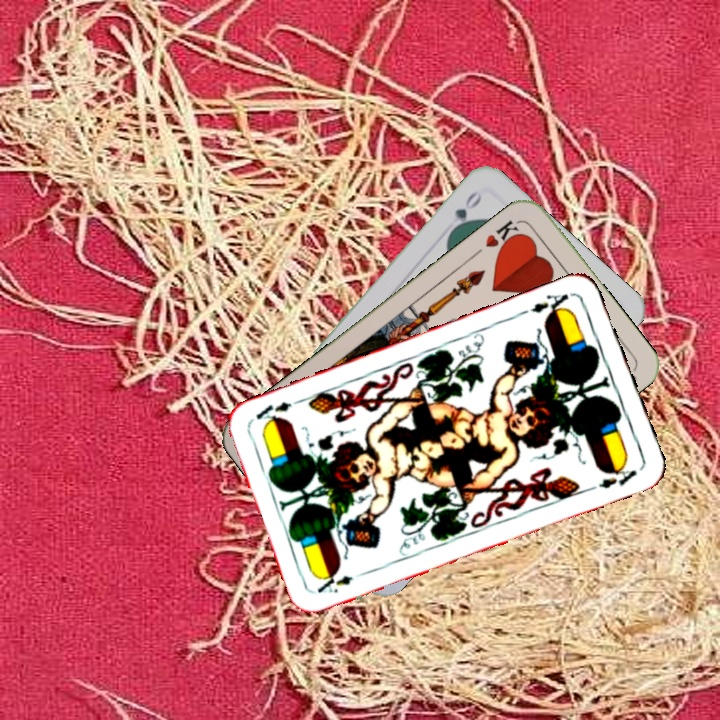EA: (527, 289, 574, 321), (313, 571, 355, 596)
GO: (445, 187, 485, 237)
HK: (481, 216, 525, 256)
